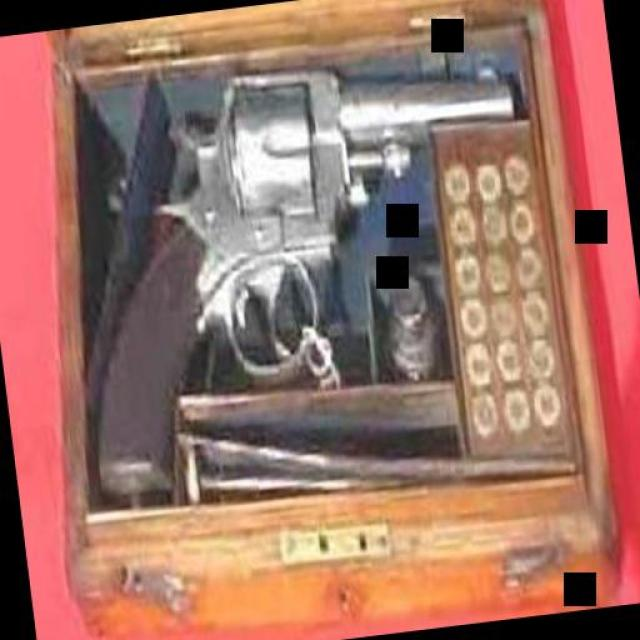gun: (45, 30, 560, 500)
